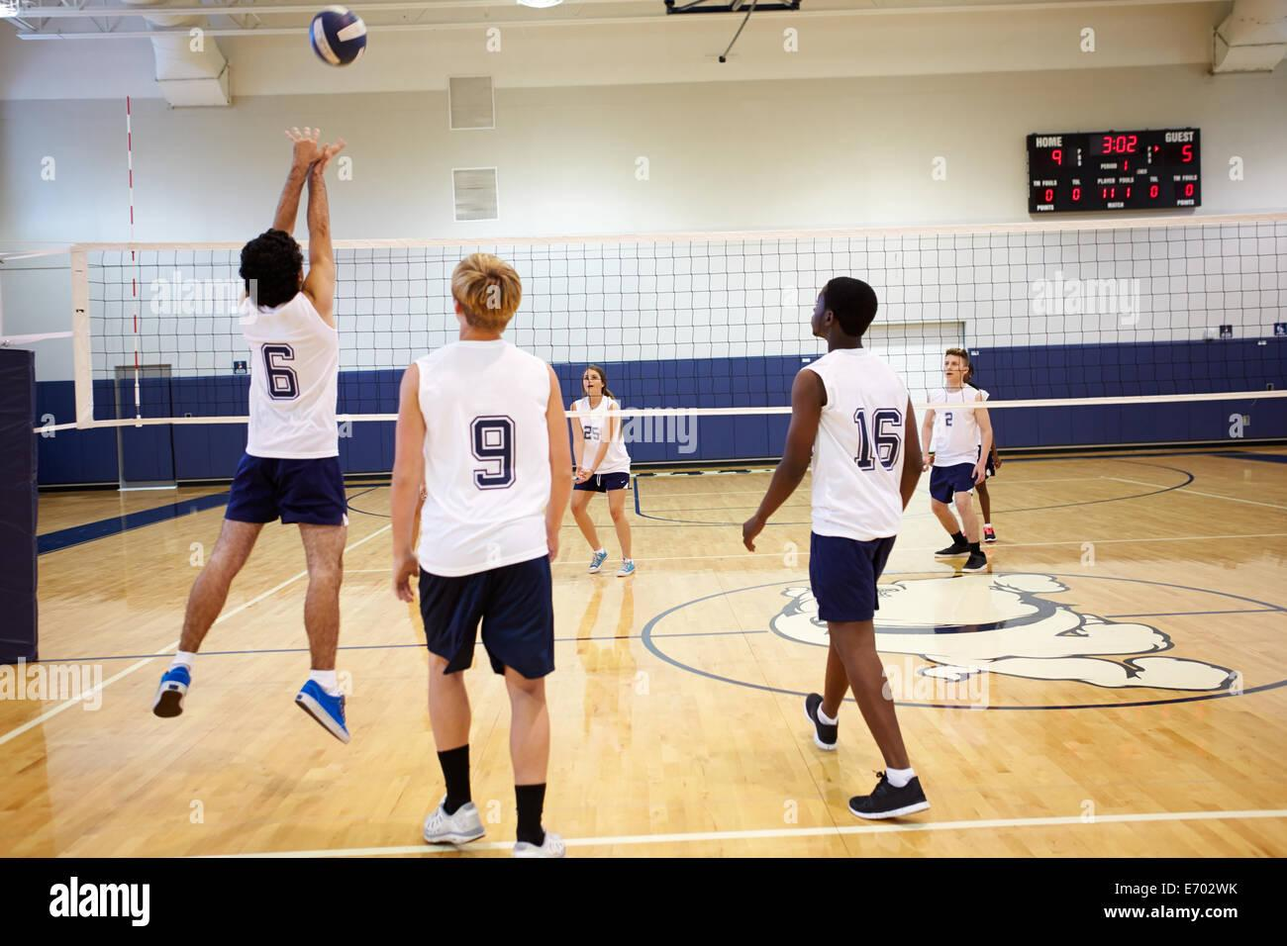ballon_volley: (308, 4, 369, 69)
